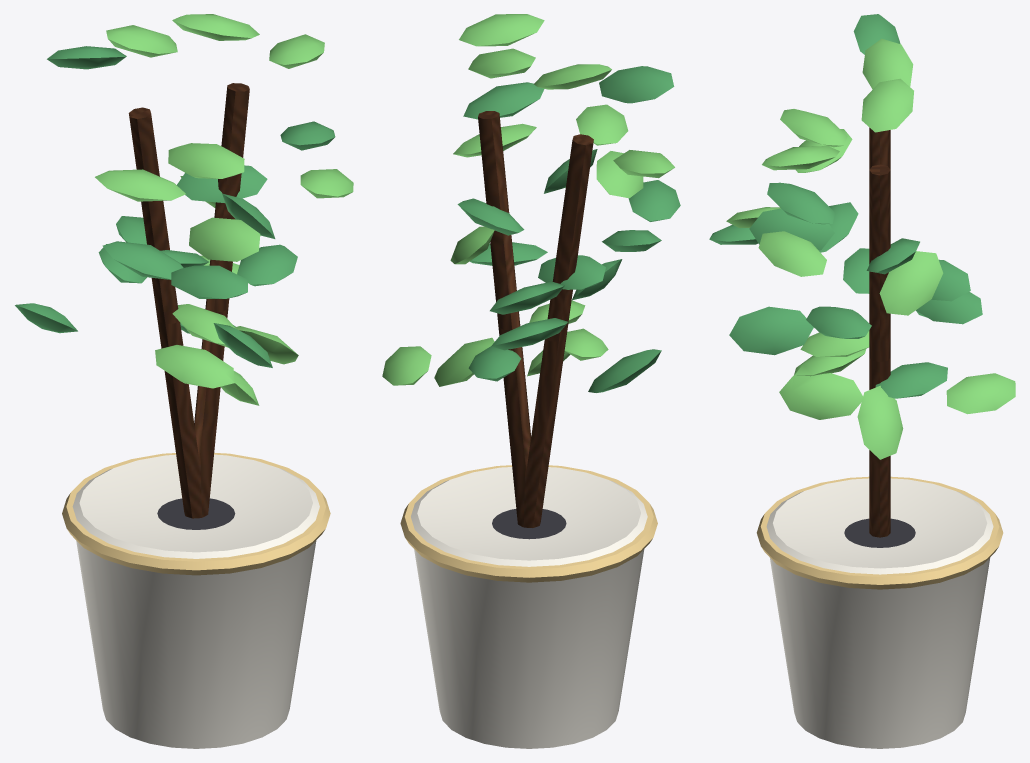
The model's file is kr_plant.glb.
3 renders of one model, left to right at view 1: azimuth 30°, elevation 25°; view 2: azimuth 150°, elevation 25°; view 3: azimuth 270°, elevation 25°, orthographic. The views are drawn at different scales.
Parts seen in each view (by area): view 1: vc_m0_r4, vc_m0_r6, kr_plant_darkwood, vc_m8_r2; view 2: vc_m0_r4, vc_m0_r6, kr_plant_darkwood, vc_m8_r2; view 3: vc_m0_r4, vc_m0_r6, kr_plant_darkwood, vc_m8_r2.
Boxes of the visible parts, <box> form: vc_m0_r4: <box>72,454,319,748</box>; vc_m0_r6: <box>15,14,353,405</box>; kr_plant_darkwood: <box>128,83,249,518</box>; vc_m8_r2: <box>62,453,330,575</box>; vc_m0_r4: <box>411,467,647,748</box>; vc_m0_r6: <box>382,14,680,392</box>; kr_plant_darkwood: <box>478,111,593,527</box>; vc_m8_r2: <box>400,465,657,582</box>; vc_m0_r4: <box>766,478,993,748</box>; vc_m0_r6: <box>709,14,1015,459</box>; kr_plant_darkwood: <box>869,127,890,537</box>; vc_m8_r2: <box>756,476,1003,589</box>.
Size of the model in its own units: 1.08 by 2.62 by 1.14.
4 materials, 1 textured.
